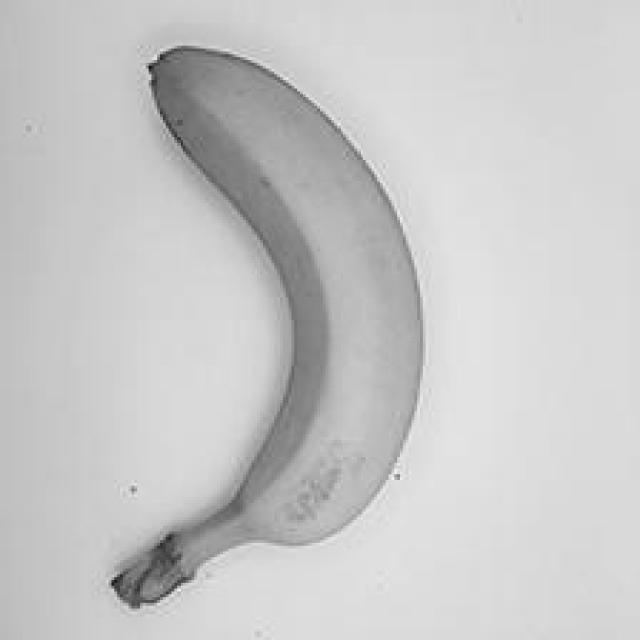Unripe: (87, 42, 451, 619)
